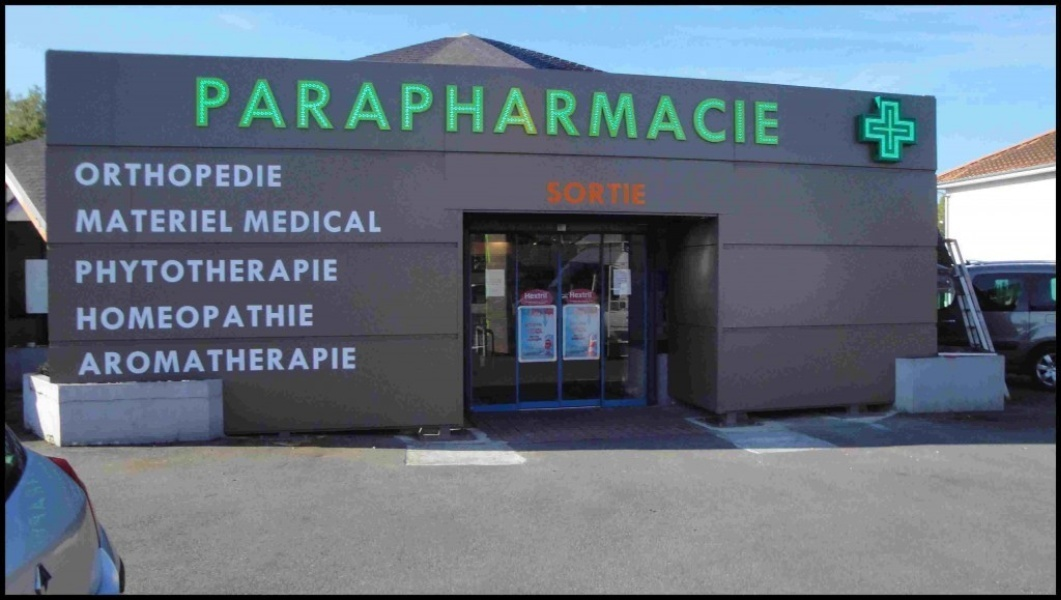text: (209, 73, 224, 147), (225, 73, 240, 147), (241, 73, 256, 147), (257, 73, 272, 147), (273, 73, 288, 147), (289, 73, 304, 147), (305, 73, 320, 147), (321, 73, 336, 147), (337, 73, 352, 147), (353, 73, 368, 147), (369, 73, 384, 147), (385, 73, 400, 147), (401, 73, 416, 147), (417, 73, 432, 147), (433, 73, 448, 147), (449, 73, 464, 147), (465, 73, 480, 147), (481, 73, 496, 147), (497, 73, 512, 147), (513, 73, 528, 147), (529, 73, 544, 147), (545, 73, 560, 147), (561, 73, 576, 147), (577, 73, 592, 147), (593, 73, 608, 147), (609, 73, 624, 147), (625, 73, 640, 147), (641, 73, 656, 147), (657, 73, 672, 147), (673, 73, 688, 147), (689, 73, 704, 147), (705, 73, 720, 147), (721, 73, 736, 147), (737, 73, 752, 147), (753, 73, 768, 147), (33, 478, 48, 547), (769, 73, 782, 147), (196, 73, 208, 147), (23, 478, 32, 547), (81, 347, 96, 377), (97, 347, 112, 377), (113, 347, 128, 377), (129, 347, 144, 377), (145, 347, 160, 377), (161, 347, 176, 377), (177, 347, 192, 377), (193, 347, 208, 377), (209, 347, 224, 377), (225, 347, 240, 377), (241, 347, 256, 377), (257, 347, 272, 377), (273, 347, 288, 377), (289, 347, 304, 377), (305, 347, 320, 377), (321, 347, 336, 377), (337, 347, 352, 377), (81, 161, 96, 188), (97, 161, 112, 188), (113, 161, 128, 188), (129, 161, 144, 188), (145, 161, 160, 188), (161, 161, 176, 188), (177, 161, 192, 188), (193, 161, 208, 188), (209, 161, 224, 188), (225, 161, 240, 188), (241, 161, 256, 188), (257, 161, 272, 188), (81, 304, 96, 331), (97, 304, 112, 331), (113, 304, 128, 331), (129, 304, 144, 331), (145, 304, 160, 331), (161, 304, 176, 331), (177, 304, 192, 331), (193, 304, 208, 331), (209, 304, 224, 331), (225, 304, 240, 331), (241, 304, 256, 331), (257, 304, 272, 331), (273, 304, 288, 331), (289, 304, 304, 331), (81, 208, 96, 234), (97, 208, 112, 234), (113, 208, 128, 234), (129, 208, 144, 234), (145, 208, 160, 234), (161, 208, 176, 234), (177, 208, 192, 234), (193, 208, 208, 234), (209, 208, 224, 234), (81, 257, 96, 283), (97, 257, 112, 283), (113, 257, 128, 283), (129, 257, 144, 283), (145, 257, 160, 283), (161, 257, 176, 283), (177, 257, 192, 283), (193, 257, 208, 283), (209, 257, 224, 283), (225, 257, 240, 283), (241, 257, 256, 283), (257, 257, 272, 283), (273, 257, 288, 283), (289, 257, 304, 283), (305, 257, 320, 283), (321, 257, 336, 283), (561, 182, 576, 205), (577, 182, 592, 205), (593, 182, 608, 205), (609, 182, 624, 205), (625, 182, 640, 205), (257, 210, 272, 233), (273, 210, 288, 233), (289, 210, 304, 233), (305, 210, 320, 233), (321, 210, 336, 233), (337, 210, 352, 233), (353, 210, 368, 233), (548, 182, 560, 205), (369, 210, 381, 233), (245, 210, 256, 233), (305, 304, 314, 331), (225, 208, 234, 234), (273, 161, 281, 188), (73, 208, 80, 234), (49, 478, 51, 547), (75, 161, 80, 188), (75, 304, 80, 331), (75, 257, 80, 283), (353, 347, 357, 377), (641, 182, 646, 205), (577, 291, 592, 298), (529, 293, 544, 299), (569, 291, 576, 298), (337, 257, 338, 283), (524, 293, 528, 299), (545, 293, 548, 299)
